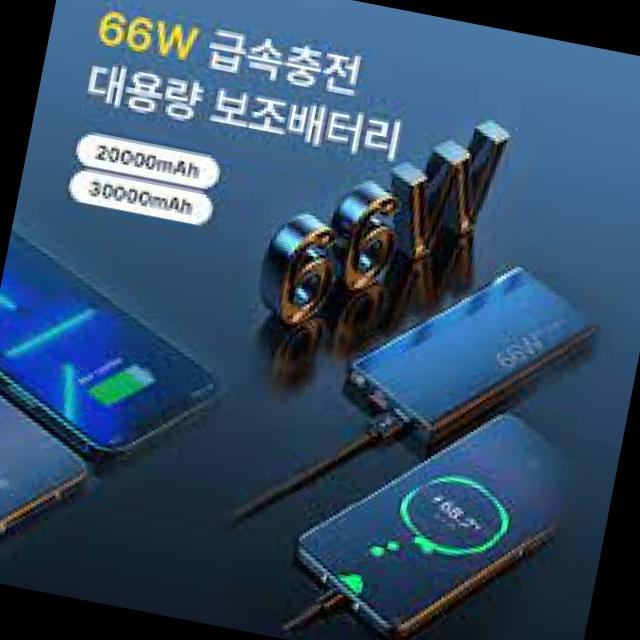power_bank: (340, 236, 607, 474)
